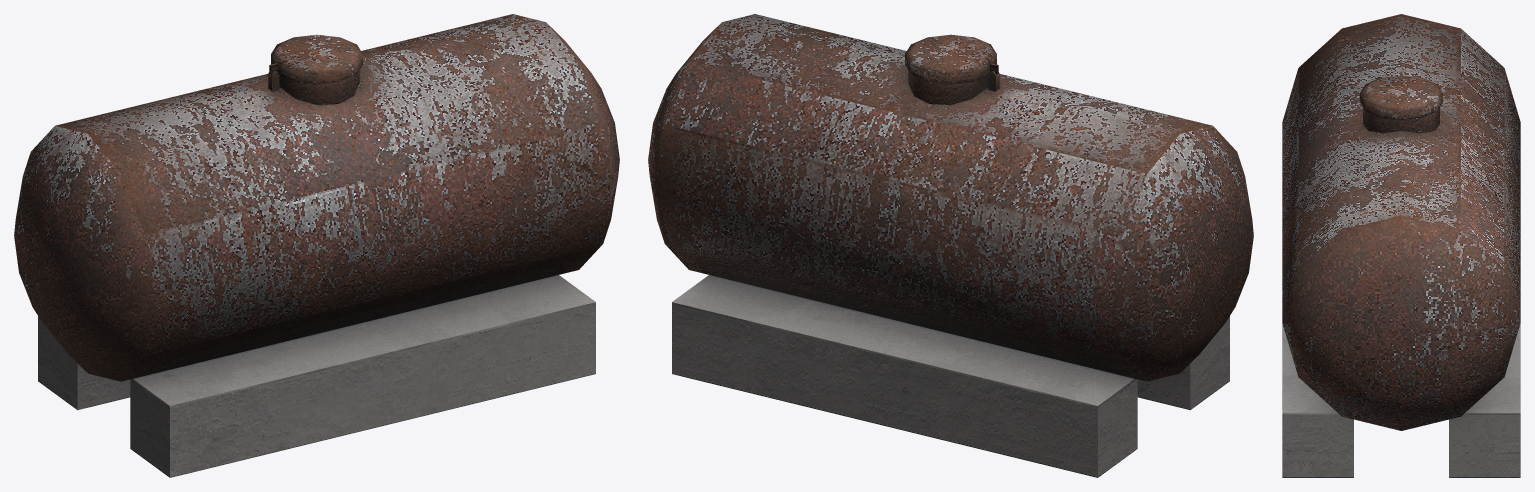
Rendered from tank.glb.
3 renders of one model, left to right at view 1: azimuth 30°, elevation 25°; view 2: azimuth 150°, elevation 25°; view 3: azimuth 270°, elevation 25°, orthographic. The views are drawn at different scales.
Parts seen in each view (by area): view 1: Object_2; view 2: Object_2; view 3: Object_2.
Part boxes in pixels (<box>): Object_2: <box>14,14,619,477</box>; Object_2: <box>648,14,1253,477</box>; Object_2: <box>1282,14,1520,477</box>.
Bounding box in the file's own units: 4.65 × 2.73 × 2.
Materials: 1 (1 with a texture image).
